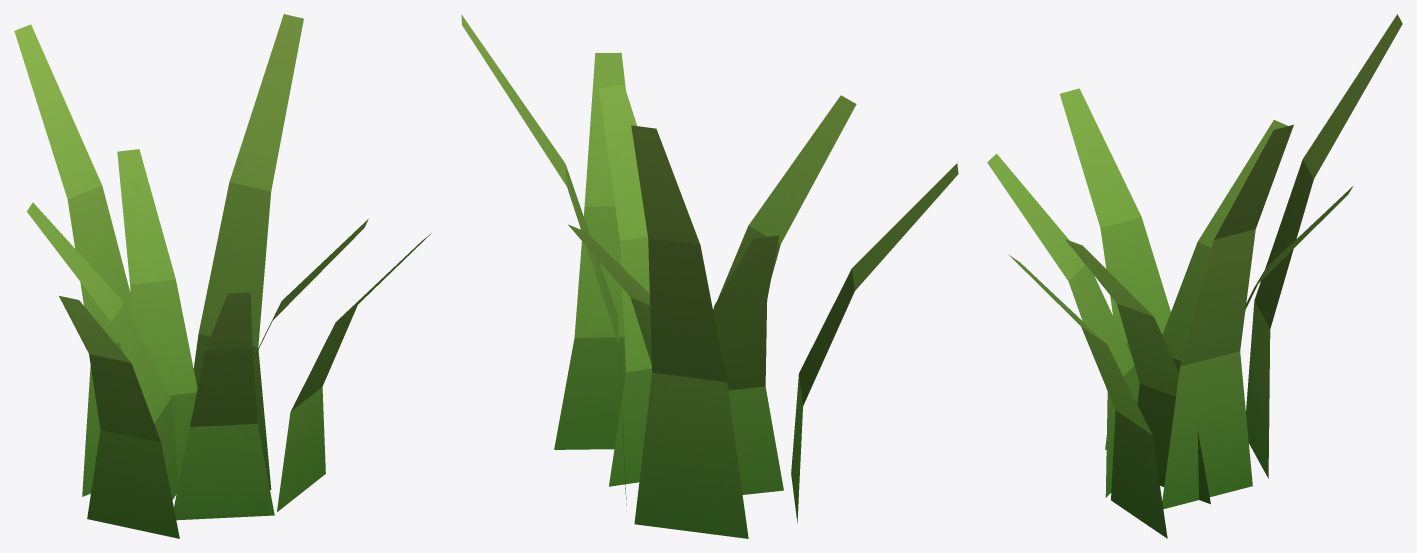
File: yerba1.fbx
3 renders of one model, left to right at view 1: azimuth 30°, elevation 25°; view 2: azimuth 150°, elevation 25°; view 3: azimuth 270°, elevation 25°, orthographic. The views are drawn at different scales.
Parts seen in each view (by area): view 1: yerba1; view 2: yerba1; view 3: yerba1.
Part boxes in pixels (bbox=[...]): yerba1: bbox=[14, 14, 431, 538]; yerba1: bbox=[461, 14, 958, 538]; yerba1: bbox=[987, 14, 1402, 538].
Bounding box in the file's own units: 30.45 × 34.57 × 30.72.
1 material, 1 textured.
